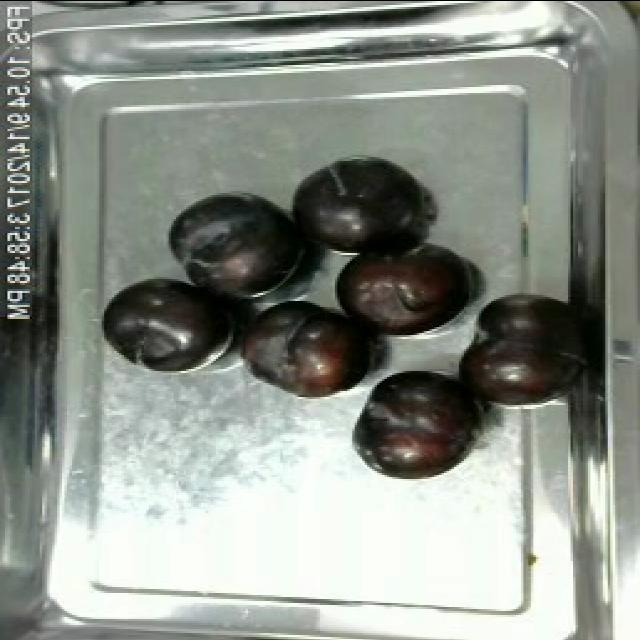Fruit: (324, 230, 476, 346), (166, 186, 315, 304), (347, 364, 489, 484), (449, 288, 583, 412), (280, 150, 426, 256), (238, 294, 380, 402), (97, 274, 230, 370)
